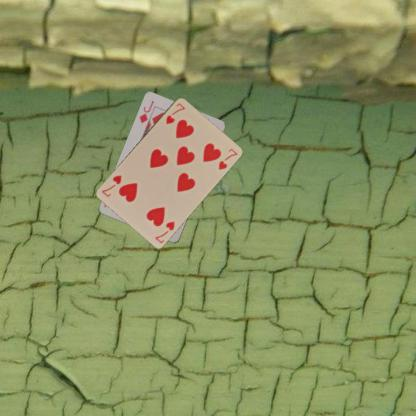7h: (152, 218, 176, 244), (163, 100, 186, 125)
Jd: (137, 98, 155, 125)
